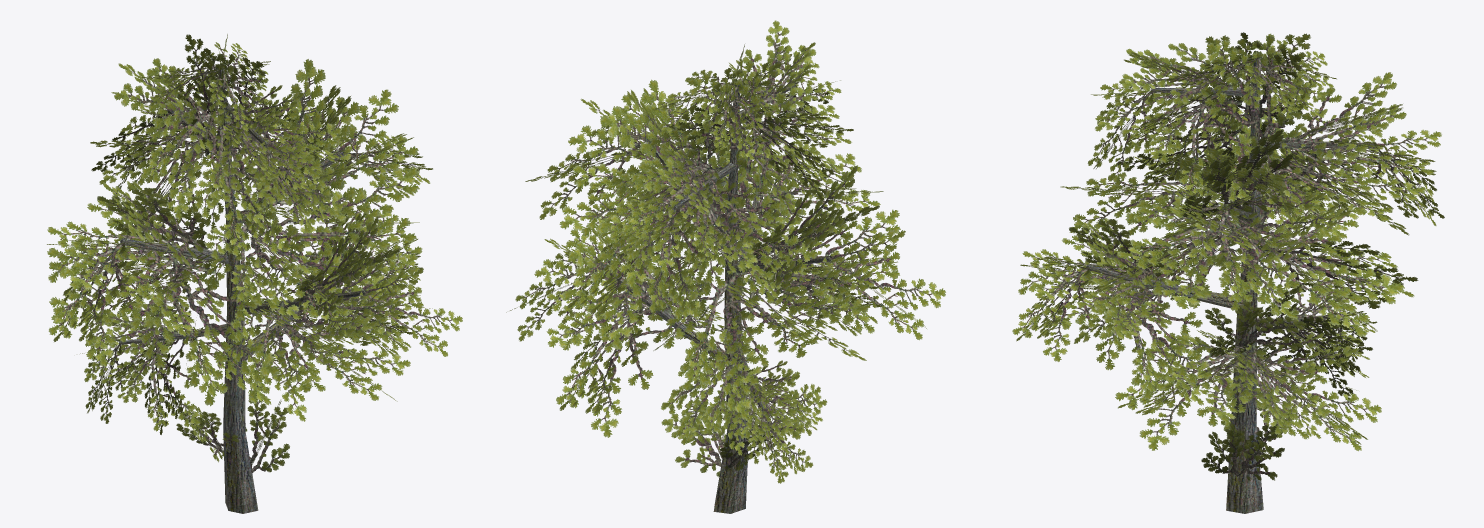
Rendered from oak_v4.glb.
The picture shows the model from 3 angles, left to right: view 1: azimuth 30°, elevation 25°; view 2: azimuth 150°, elevation 25°; view 3: azimuth 270°, elevation 25°; orthographic projection. The views are drawn at different scales.
Parts seen in each view (by area): view 1: oak_tree_a_small; view 2: oak_tree_a_small; view 3: oak_tree_a_small.
Part boxes in pixels (x1,y1,x2,y2): oak_tree_a_small: [47, 34, 462, 513]; oak_tree_a_small: [506, 20, 945, 513]; oak_tree_a_small: [1012, 32, 1444, 513].
Size of the model in its own units: 3.84 by 3.97 by 3.67.
1 material, 1 textured.
